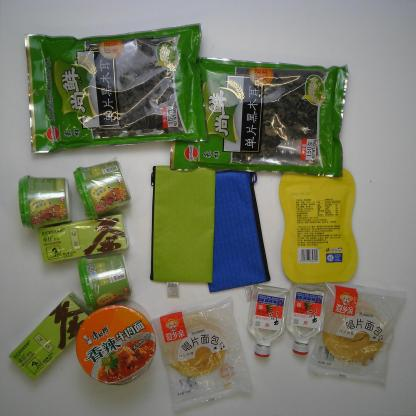Alcohol: (245, 285, 290, 357), (286, 280, 325, 355)
Dessert: (150, 296, 254, 411), (307, 281, 408, 385)
Dried Food: (24, 22, 209, 154), (168, 56, 350, 173)
Dried Fruit: (278, 168, 359, 286)
Instant Drink: (7, 293, 92, 381), (38, 212, 130, 265), (72, 158, 132, 219), (76, 252, 134, 312), (17, 174, 73, 231)
Instant Noodles: (76, 299, 158, 386)
Stationery: (150, 165, 216, 283), (208, 170, 271, 292)
